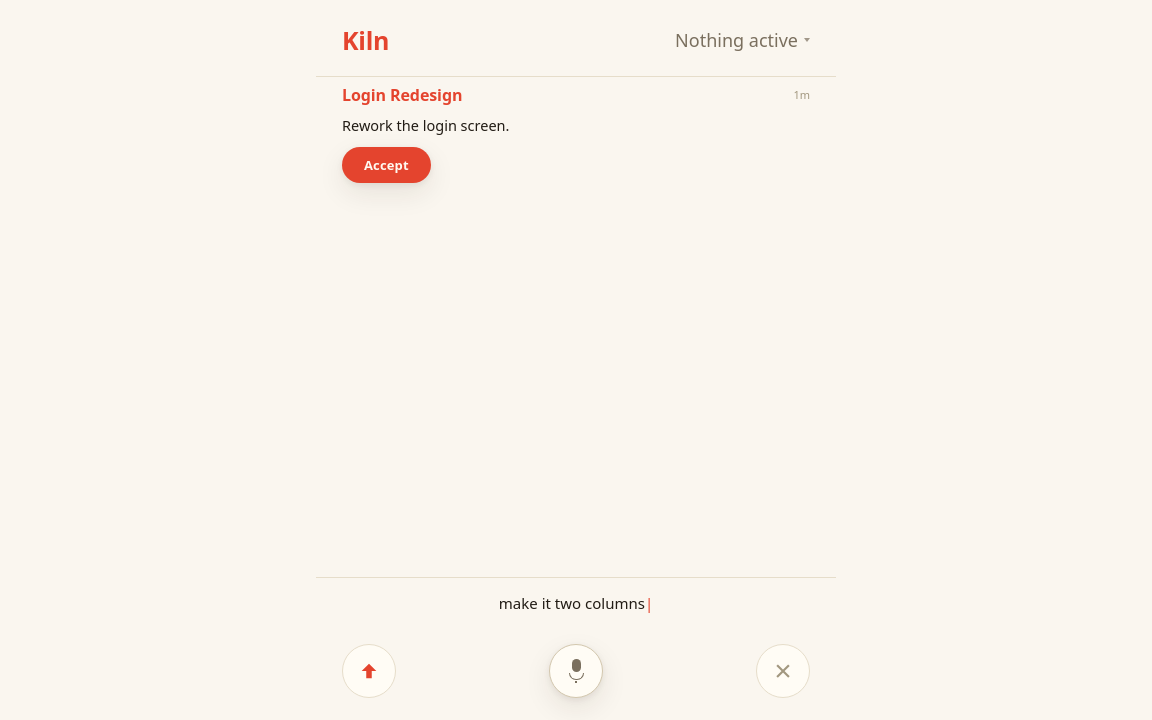
PrimaryScreenView › swaps Accept for the mic’s Send and × while a voice session is live in the sheet
The image size is (1152, 720).
Click the button with aria-label "Open ticket: Login Redesign". click: (426, 125)
box: top-left (342, 115), bottom-right (810, 137)
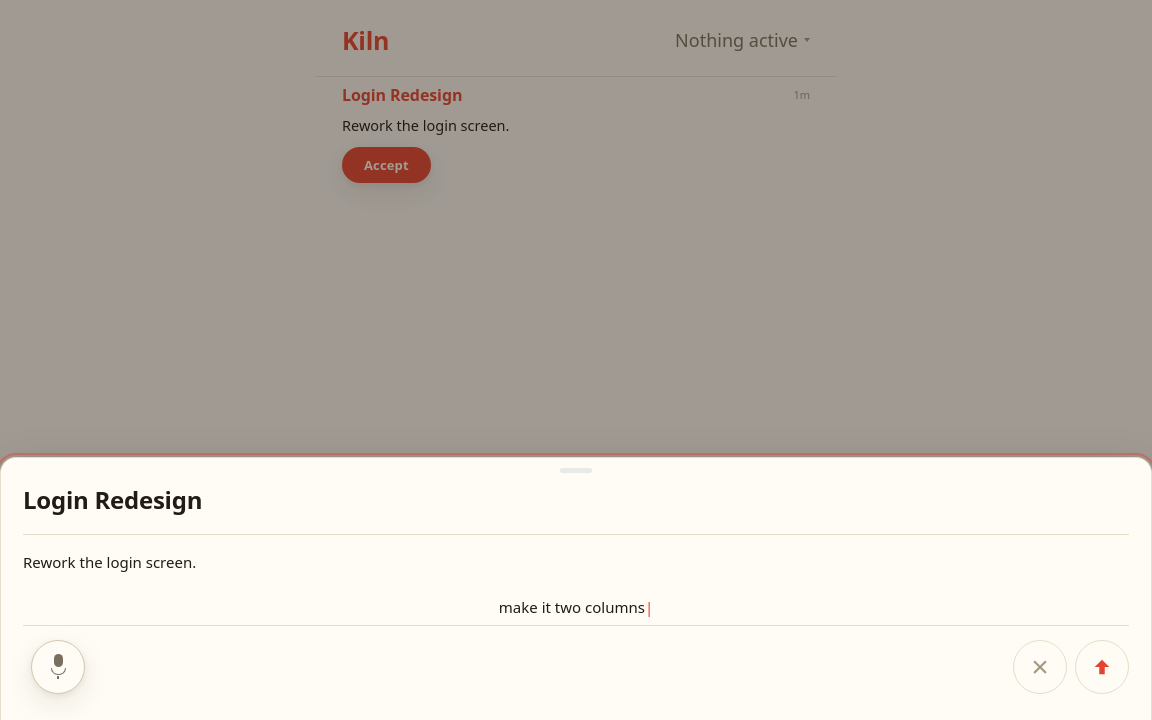
Expected: the button named "Send" is enabled, top-left (1075, 640), bottom-right (1129, 694)
Expected: the button named "Discard" is shown, top-left (1013, 640), bottom-right (1067, 694)
Expected: the element named "Talk" is shown, top-left (23, 636), bottom-right (1129, 698)
